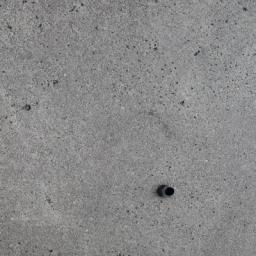FOD: (155, 182, 180, 201)
